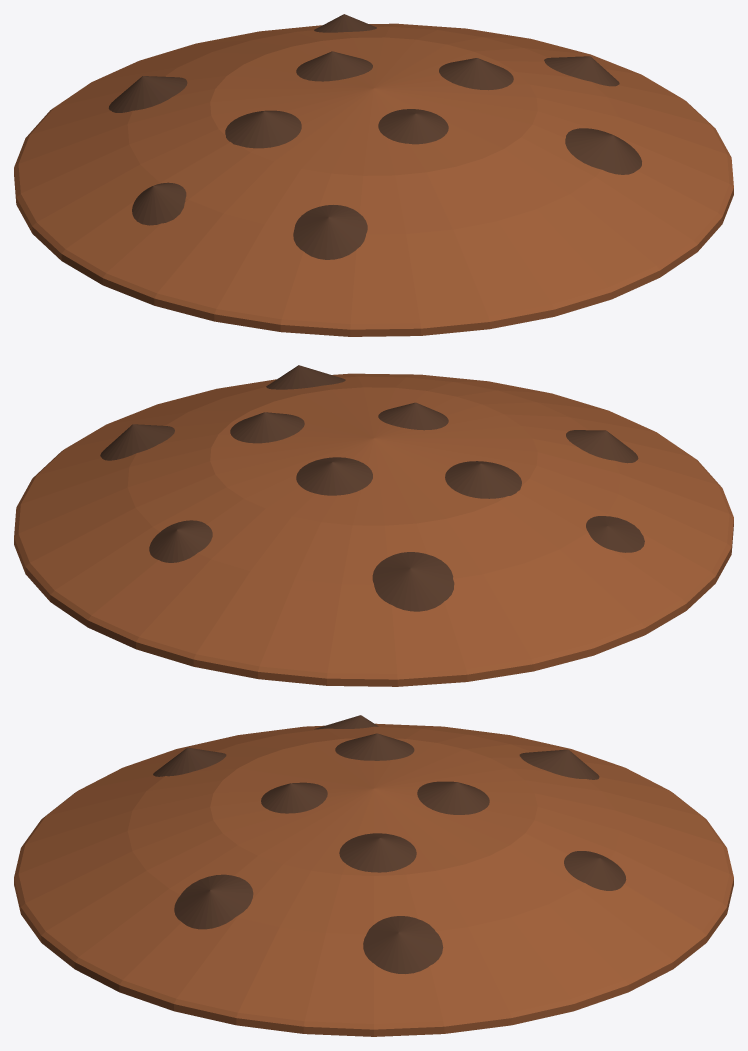
The model's file is Cookies.fbx.
The picture shows the model from 3 angles, top to bottom: view 1: azimuth 30°, elevation 25°; view 2: azimuth 150°, elevation 25°; view 3: azimuth 270°, elevation 25°; orthographic projection.
Visible parts, largest first — view 1: Cone, Cone.008, Cone.007, Cone.004, Cone.001, Cone.009, Cone.005, Cone.003, Cone.002, Cone.010, Cone.006; view 2: Cone, Cone.005, Cone.002, Cone.004, Cone.006, Cone.003, Cone.009, Cone.010, Cone.008, Cone.001, Cone.007; view 3: Cone, Cone.010, Cone.007, Cone.003, Cone.002, Cone.006, Cone.001, Cone.004, Cone.005, Cone.008.
Part boxes in pixels (left/top/right/bottom): Cone: left=14, top=23, right=733, bottom=336; Cone.008: left=293, top=205, right=367, bottom=259; Cone.007: left=565, top=128, right=641, bottom=174; Cone.004: left=225, top=110, right=301, bottom=148; Cone.001: left=378, top=109, right=448, bottom=144; Cone.009: left=132, top=182, right=186, bottom=225; Cone.005: left=108, top=76, right=187, bottom=112; Cone.003: left=439, top=58, right=513, bottom=90; Cone.002: left=296, top=51, right=372, bottom=81; Cone.010: left=544, top=56, right=619, bottom=86; Cone.006: left=314, top=14, right=376, bottom=32; Cone: left=14, top=373, right=733, bottom=686; Cone.005: left=372, top=552, right=454, bottom=611; Cone.002: left=296, top=457, right=372, bottom=495; Cone.004: left=445, top=461, right=521, bottom=498; Cone.006: left=149, top=520, right=212, bottom=562; Cone.003: left=230, top=412, right=304, bottom=443; Cone.009: left=586, top=516, right=644, bottom=552; Cone.010: left=100, top=424, right=174, bottom=460; Cone.008: left=566, top=430, right=638, bottom=463; Cone.001: left=378, top=402, right=448, bottom=430; Cone.007: left=266, top=365, right=345, bottom=389; Cone: left=14, top=723, right=733, bottom=1036; Cone.010: left=363, top=916, right=443, bottom=973; Cone.007: left=174, top=874, right=253, bottom=929; Cone.003: left=339, top=833, right=416, bottom=872; Cone.002: left=417, top=781, right=489, bottom=814; Cone.006: left=564, top=851, right=626, bottom=890; Cone.001: left=261, top=782, right=327, bottom=813; Cone.004: left=335, top=733, right=414, bottom=760; Cone.005: left=519, top=749, right=599, bottom=779; Cone.008: left=153, top=747, right=226, bottom=776.
Size of the model in its own units: 270 by 42.55 by 270.
